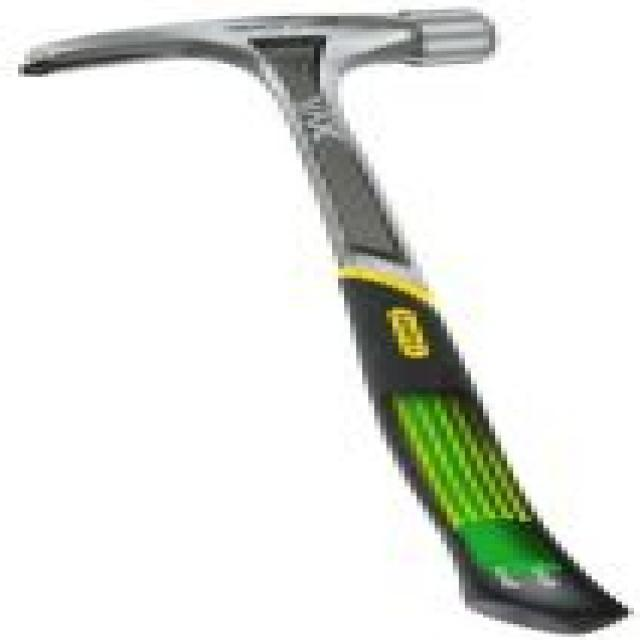hammer: (4, 1, 634, 638)
